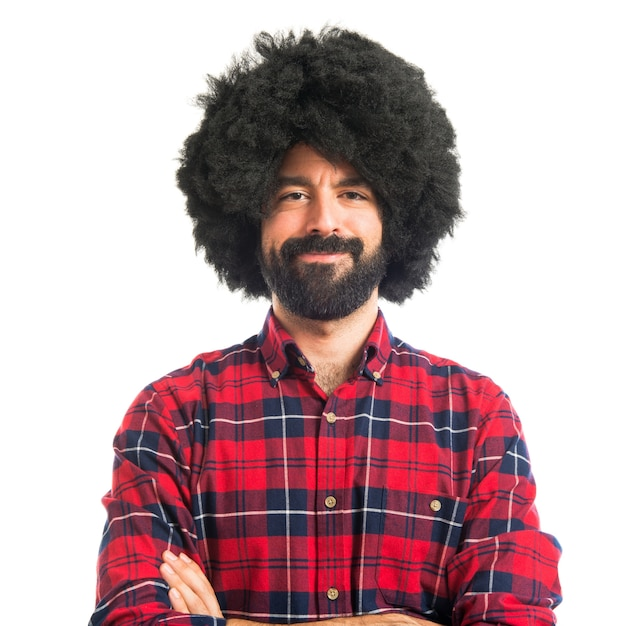young: (216, 79, 413, 319)
